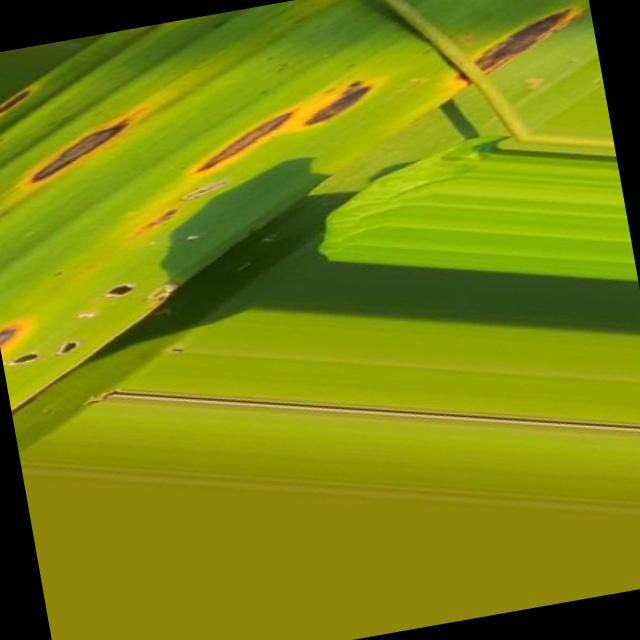Banana_Yellow_Sigatoka: (185, 80, 418, 171), (0, 96, 184, 198), (446, 0, 596, 70)
